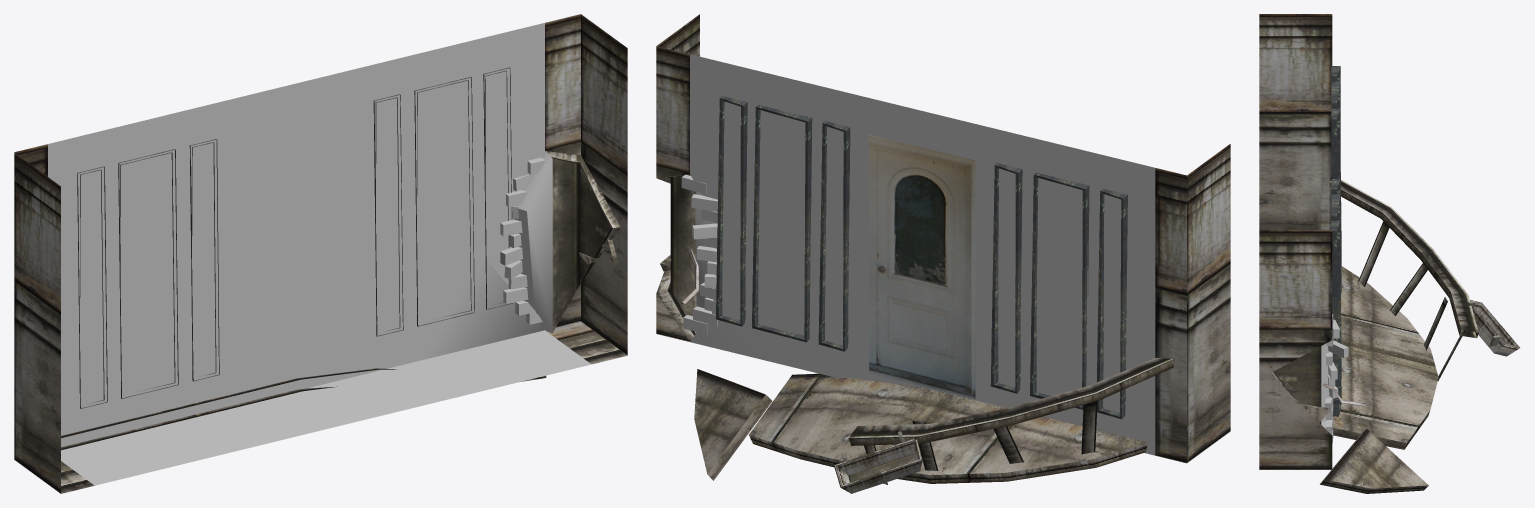
The model's file is Store_front_11_D.fbx.
3 renders of one model, left to right at view 1: azimuth 30°, elevation 25°; view 2: azimuth 150°, elevation 25°; view 3: azimuth 270°, elevation 25°, orthographic. The views are drawn at different scales.
Parts seen in each view (by area): view 1: Store_front_11_D; view 2: Store_front_11_D; view 3: Store_front_11_D.
Boxes of the visible parts, bbox=[...] form: Store_front_11_D: bbox=[14, 14, 627, 493]; Store_front_11_D: bbox=[656, 14, 1230, 493]; Store_front_11_D: bbox=[1259, 14, 1519, 493].
Bounding box in the file's own units: 701 × 463 × 358.
